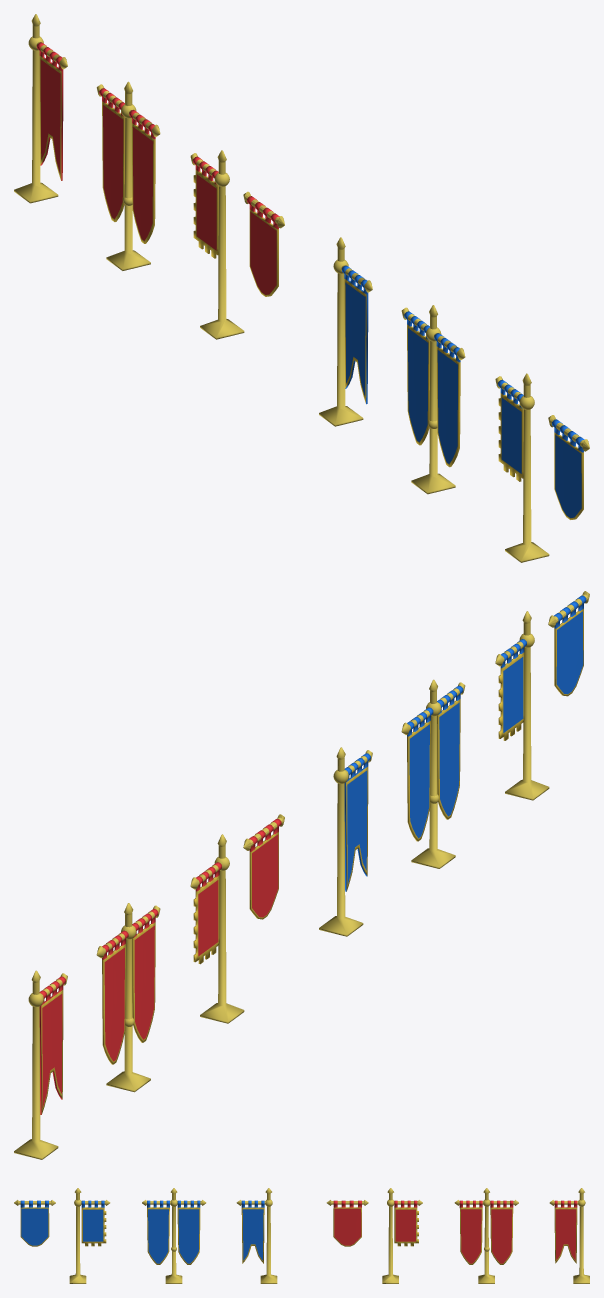
File: Estandartes.fbx
The picture shows the model from 3 angles, top to bottom: view 1: azimuth 30°, elevation 25°; view 2: azimuth 150°, elevation 25°; view 3: azimuth 270°, elevation 25°; orthographic projection. The views are drawn at different scales.
Visible parts, largest first — view 1: Cube.003, Sphere.001, Cube.008, Cube.005, Cylinder.003, Cylinder.002, Cube.001, Cube.007; view 2: Cube.003, Sphere.001, Cube.008, Cube.005, Cylinder.003, Cylinder.002, Cube.007, Cube.001; view 3: Cube.003, Sphere.001, Cube.008, Cube.005, Cylinder.003, Cylinder.002, Cube.001, Cube.007.
Part boxes in pixels (box(x1,y1,x2,y2)): Cube.003: box(96, 81, 160, 270); Sphere.001: box(401, 305, 465, 494); Cube.008: box(14, 14, 67, 203); Cube.005: box(319, 237, 372, 426); Cylinder.003: box(190, 150, 244, 339); Cylinder.002: box(495, 373, 549, 562); Cube.001: box(548, 415, 589, 519); Cube.007: box(243, 191, 284, 296); Cube.003: box(96, 903, 160, 1092); Sphere.001: box(401, 679, 465, 868); Cube.008: box(14, 970, 67, 1159); Cube.005: box(319, 747, 372, 936); Cylinder.003: box(190, 834, 244, 1023); Cylinder.002: box(495, 611, 549, 800); Cube.007: box(243, 814, 284, 919); Cube.001: box(548, 591, 589, 696); Cube.003: box(454, 1188, 518, 1283); Sphere.001: box(142, 1188, 206, 1283); Cube.008: box(549, 1188, 589, 1283); Cube.005: box(236, 1188, 277, 1283); Cylinder.003: box(382, 1188, 422, 1283); Cylinder.002: box(69, 1188, 110, 1283); Cube.001: box(14, 1200, 55, 1246); Cube.007: box(326, 1200, 368, 1246).
Bounding box in the file's own units: 26.28 × 160 × 908.
